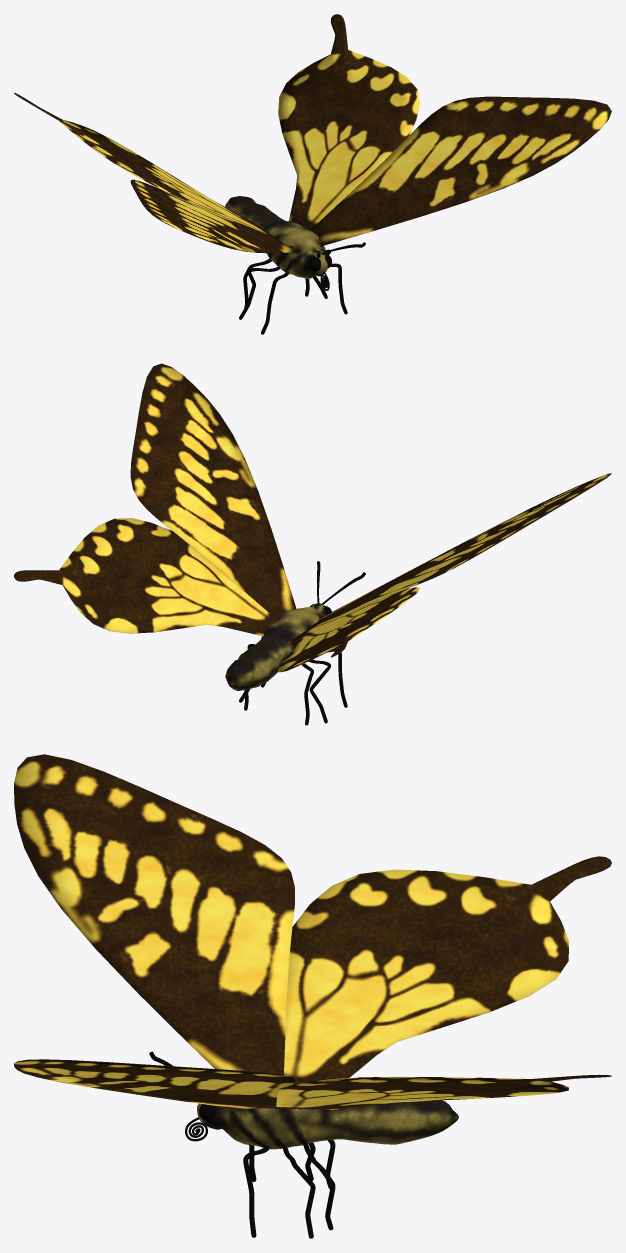
File: Mariposa cometa negra.glb
3 views of the same model, one above another, from view 1: azimuth 30°, elevation 25°; view 2: azimuth 150°, elevation 25°; view 3: azimuth 270°, elevation 25° (orthographic). The views are drawn at different scales.
Visible parts, largest first — view 1: Papilio polyxenes; view 2: Papilio polyxenes; view 3: Papilio polyxenes.
Part boxes in pixels (x1,y1,x2,y2): Papilio polyxenes: (14,14,611,334); Papilio polyxenes: (14,363,611,725); Papilio polyxenes: (14,754,611,1238).
Bounding box in the file's own units: 3.74 × 1.73 × 3.1.
Materials: 3 (3 with a texture image).
